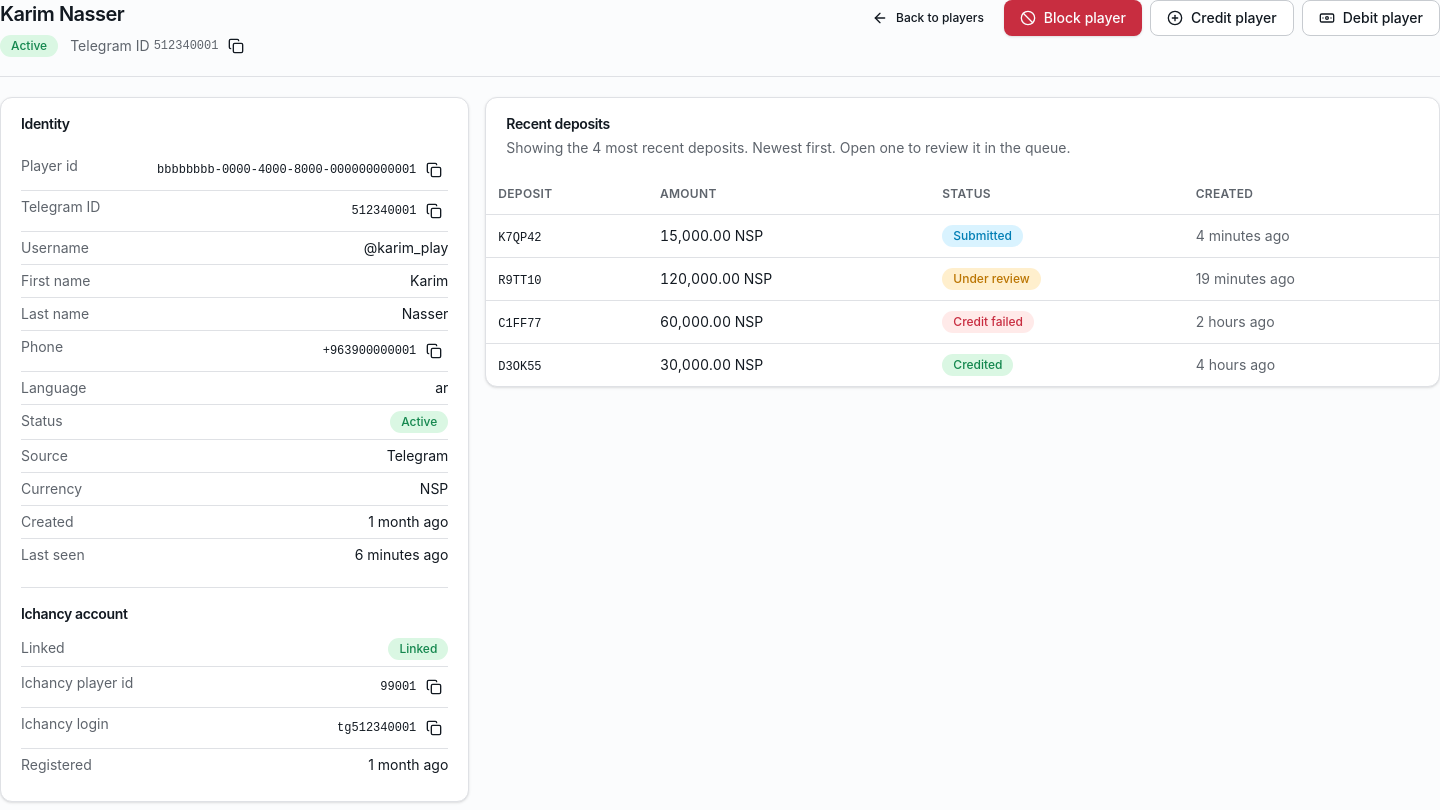
Test case: PlayerDetailPage: taking money back out › takes the money only after the confirmation, then re-reads the player
Click the button "Debit player" at (1371, 18), box [1302,0,1439,36]
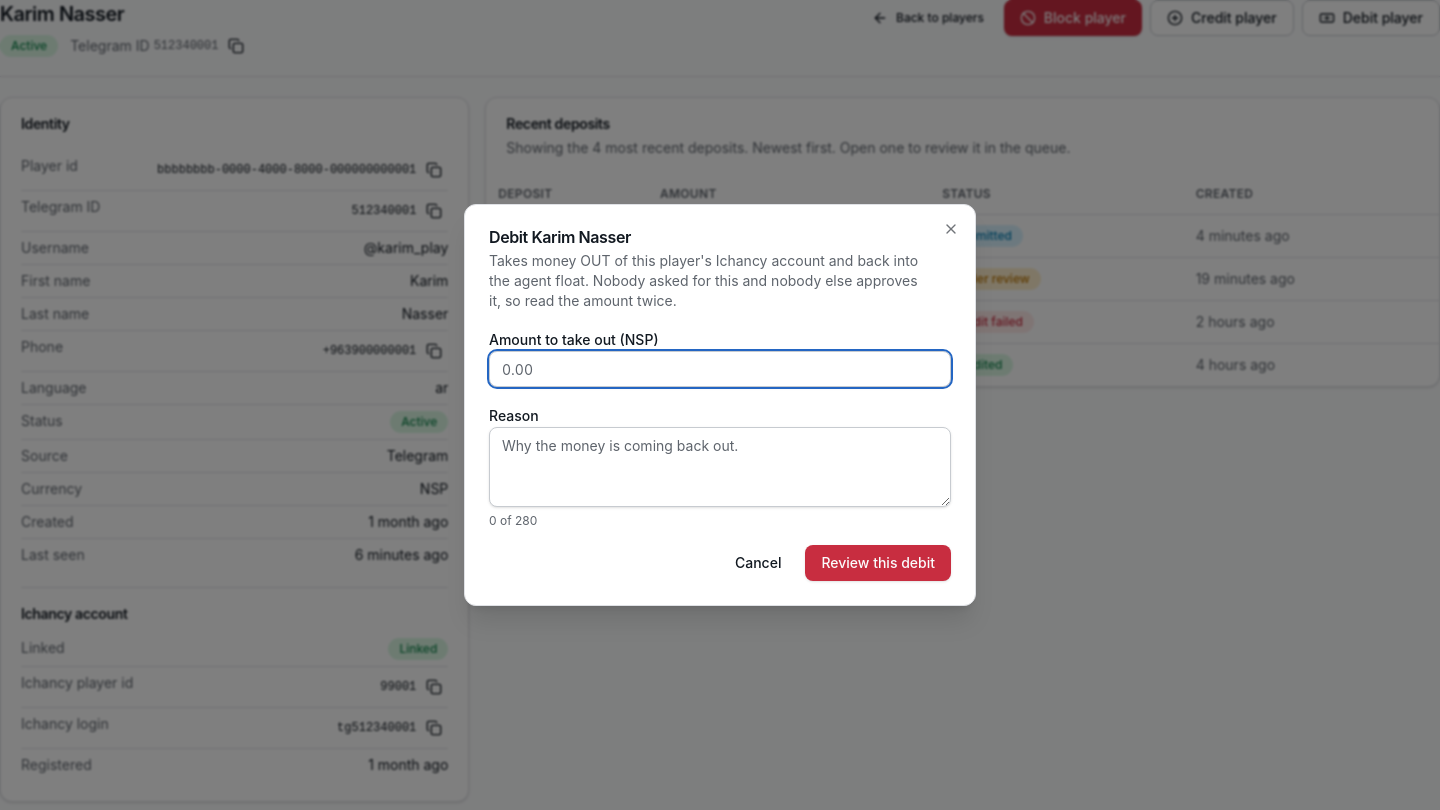
Type "1500.00" into the field labelled "Amount to take out (NSP)" at (720, 369), box [489,351,951,387]
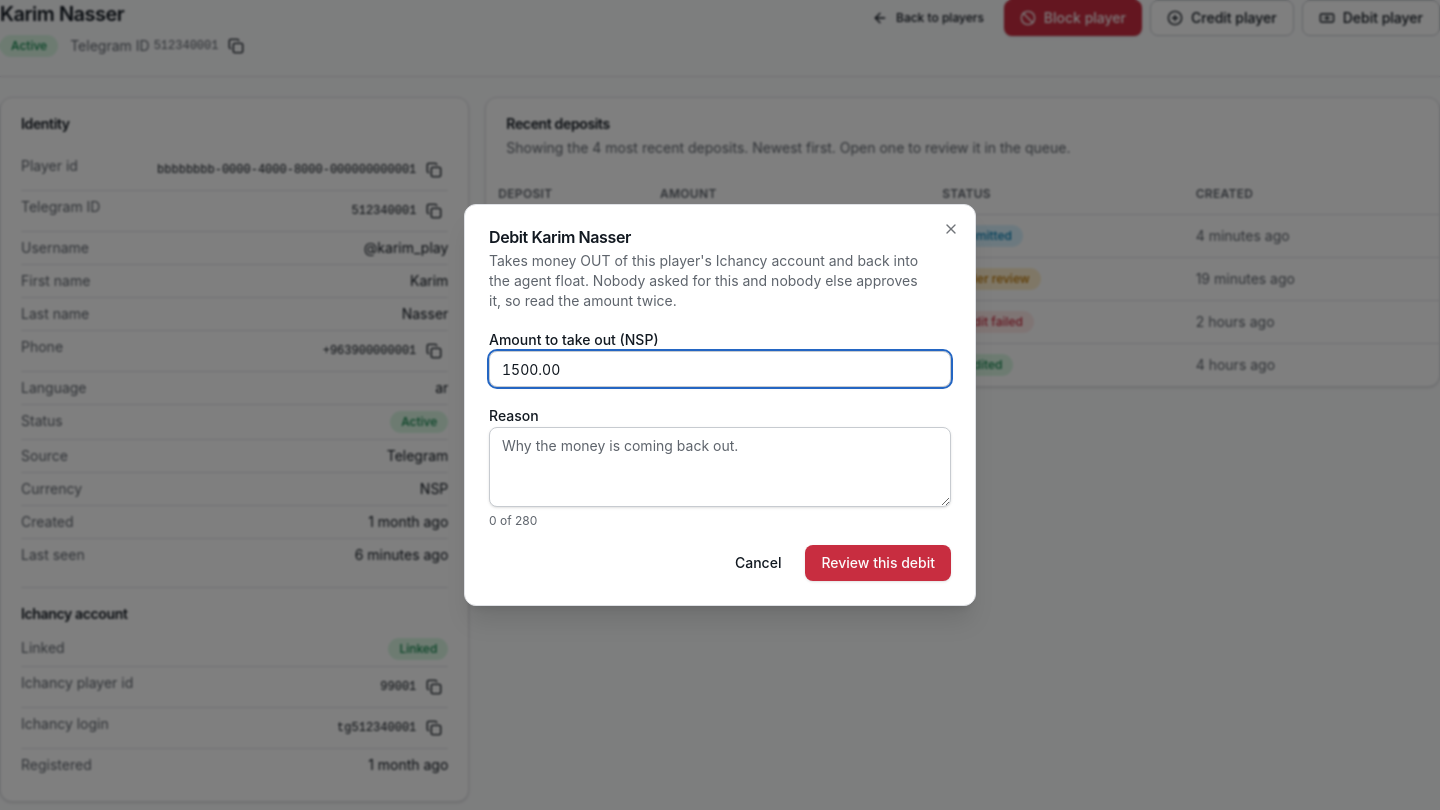
Type "Chargeback on the original deposit" into the text box labelled "Reason" at (720, 467), box [489,427,951,507]
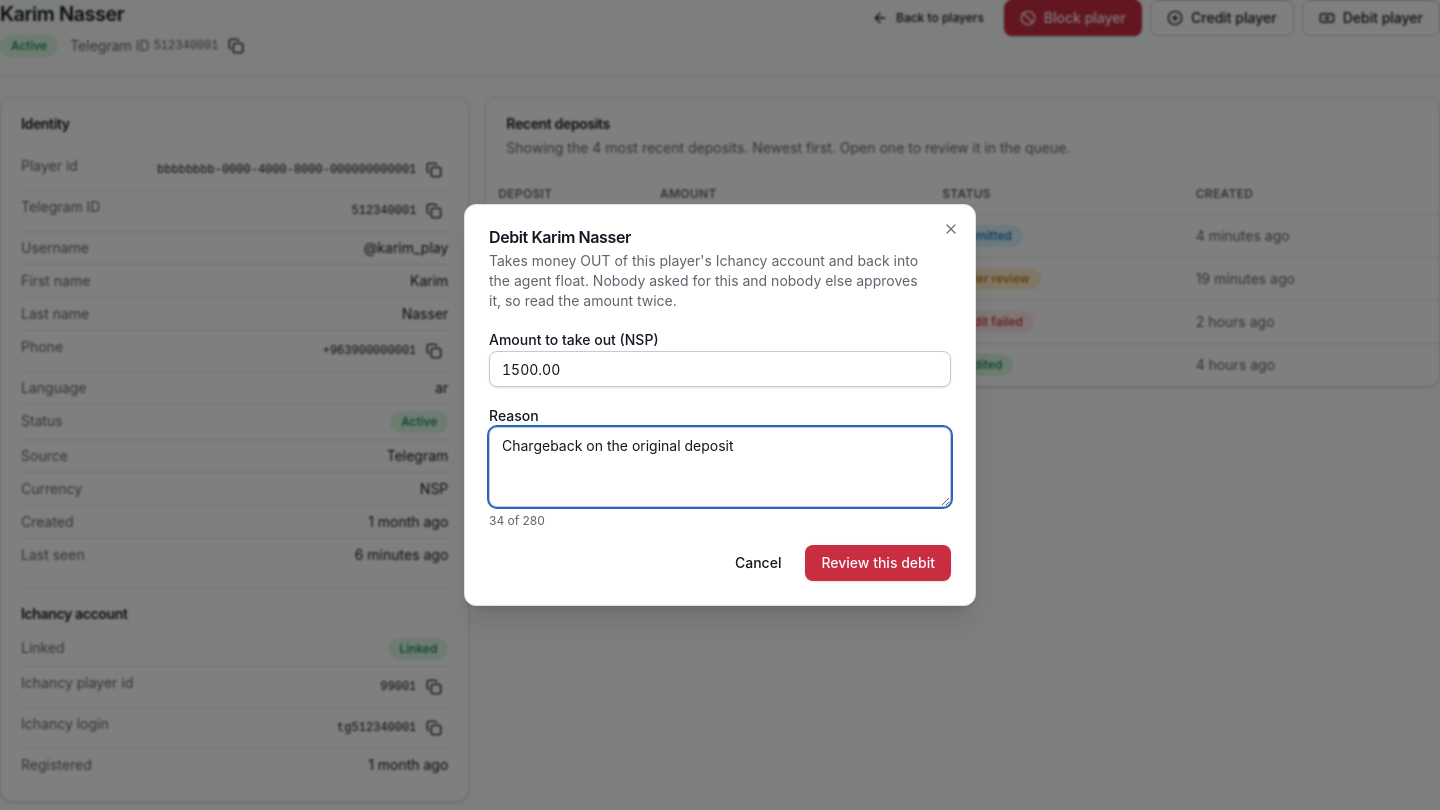
Click the button "Review this debit" at (878, 563), box [805,545,951,581]
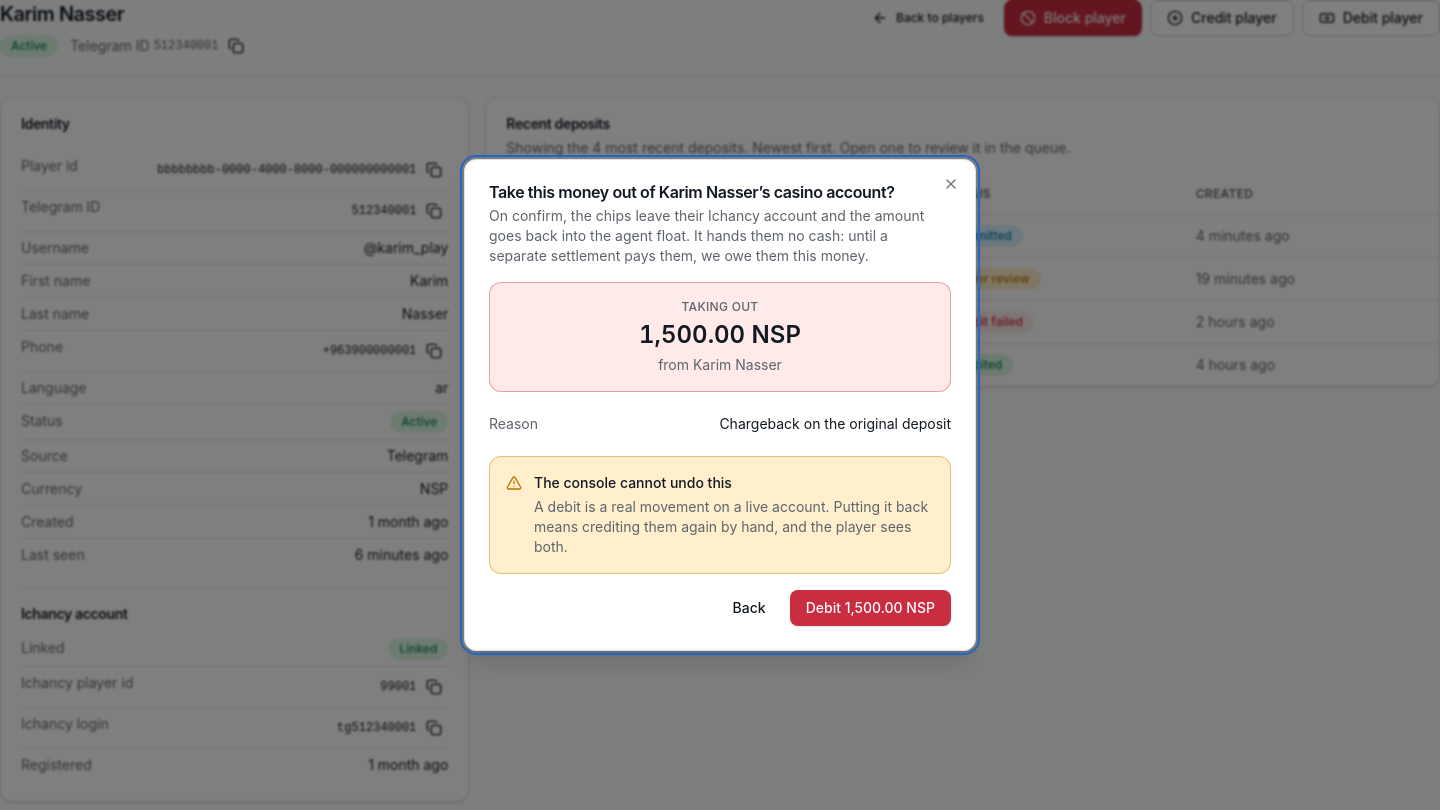
Result: the heading "Take this money out of Karim Nasser’s casino account?" is shown at [489,184,927,200]
Click the button "Debit 1,500.00 NSP" at (870, 608), box [790,590,951,626]
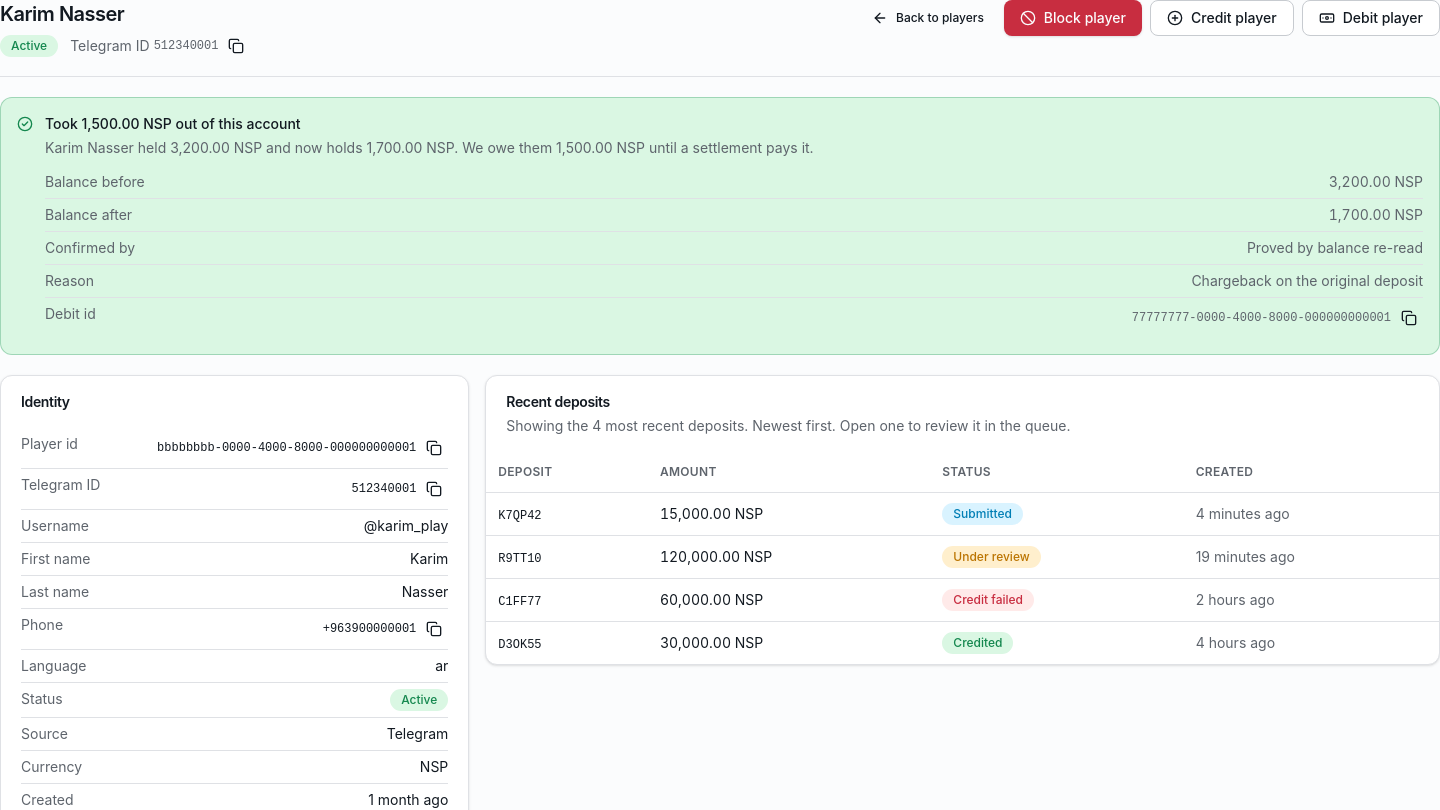
Result: the text "Took 1,500.00 NSP out of this account" is shown at [45,115,301,132]
Result: the text "3,200.00 NSP" is shown at [1329,172,1423,192]
Result: the text "1,700.00 NSP" is shown at [1329,205,1423,225]
